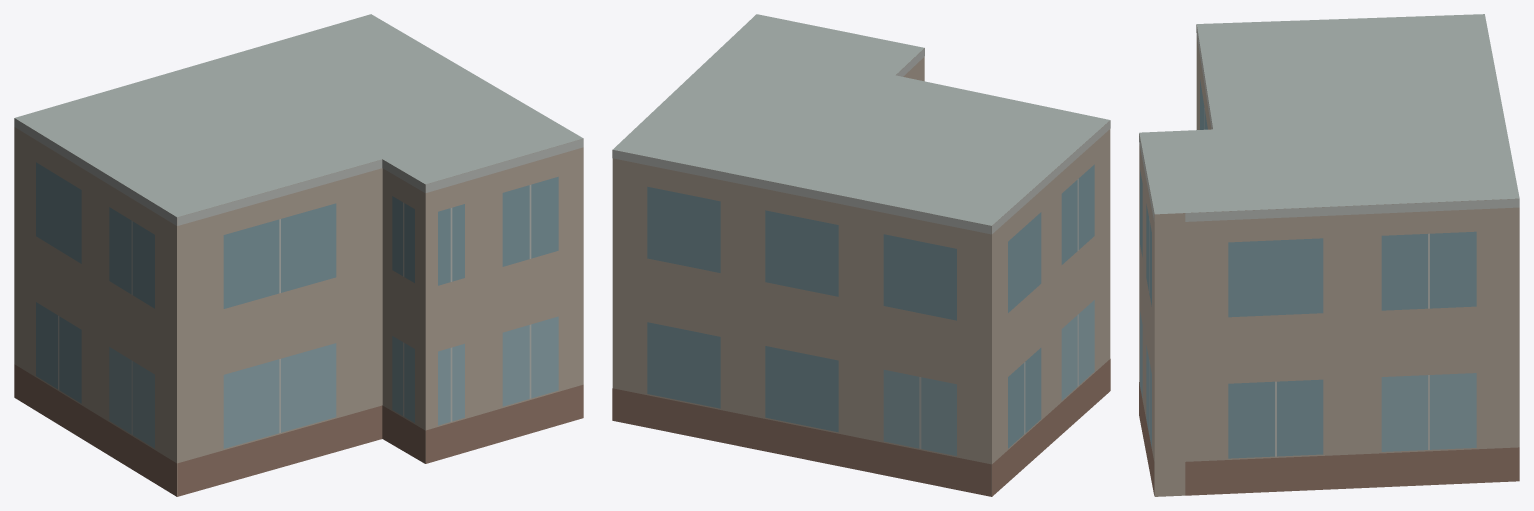
File: survey-upis-32895745.glb
The picture shows the model from 3 angles, left to right: view 1: azimuth 30°, elevation 25°; view 2: azimuth 150°, elevation 25°; view 3: azimuth 270°, elevation 25°; orthographic projection. The views are drawn at different scales.
Visible parts, largest first — view 1: survey-upis-32895745.tmp; view 2: survey-upis-32895745.tmp; view 3: survey-upis-32895745.tmp.
Boxes of the visible parts, bbox=[...] form: survey-upis-32895745.tmp: bbox=[14, 14, 583, 496]; survey-upis-32895745.tmp: bbox=[612, 14, 1110, 496]; survey-upis-32895745.tmp: bbox=[1139, 14, 1519, 496].
Size of the model in its own units: 11.71 by 7.7 by 9.41.
